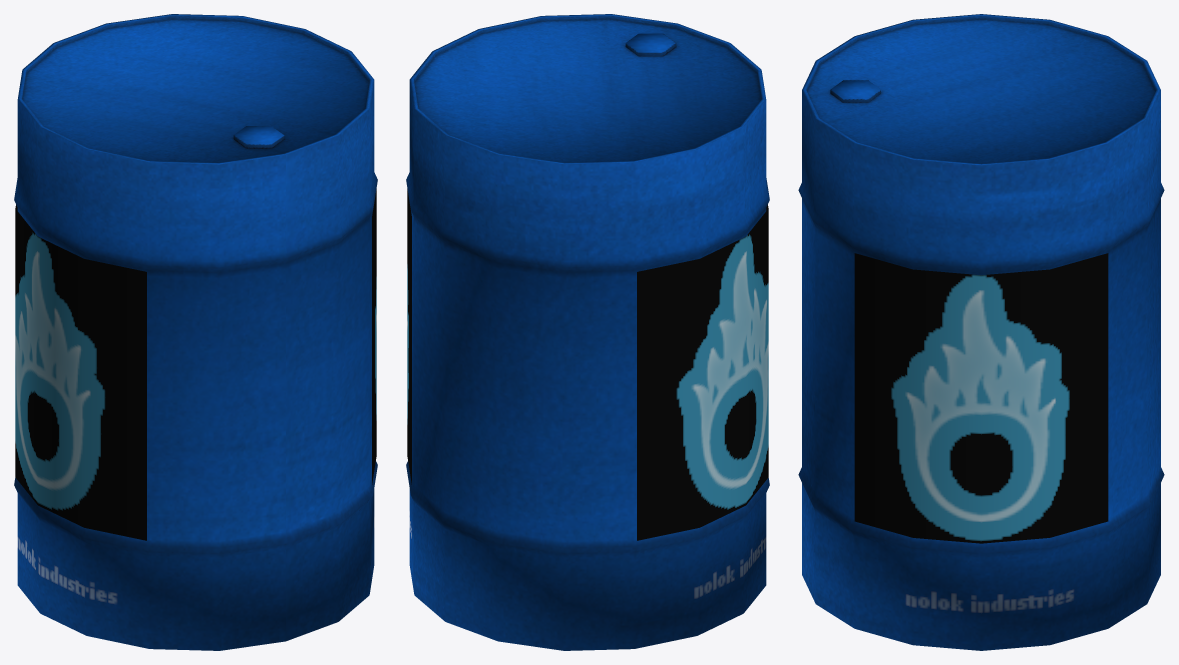
Rendered from nitro.gltf.
3 renders of one model, left to right at view 1: azimuth 30°, elevation 25°; view 2: azimuth 150°, elevation 25°; view 3: azimuth 270°, elevation 25°, orthographic.
Parts seen in each view (by area): view 1: Circle.002; view 2: Circle.002; view 3: Circle.002.
Part boxes in pixels (left/top/right/bottom): Circle.002: left=14, top=14, right=377, bottom=650; Circle.002: left=406, top=14, right=769, bottom=650; Circle.002: left=798, top=14, right=1164, bottom=650.
Bounding box in the file's own units: 0.8072 × 1.18 × 0.8072.
2 materials, 2 textured.
